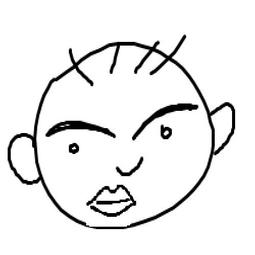cupid_mouth: (84, 183, 138, 219)
ear: (3, 130, 42, 190), (208, 94, 237, 160)
eyebrow: (42, 115, 121, 141)
frowning_eyebrow: (131, 100, 200, 141)
nose: (111, 154, 149, 180)
small_eye: (65, 140, 85, 157), (159, 122, 174, 143)
